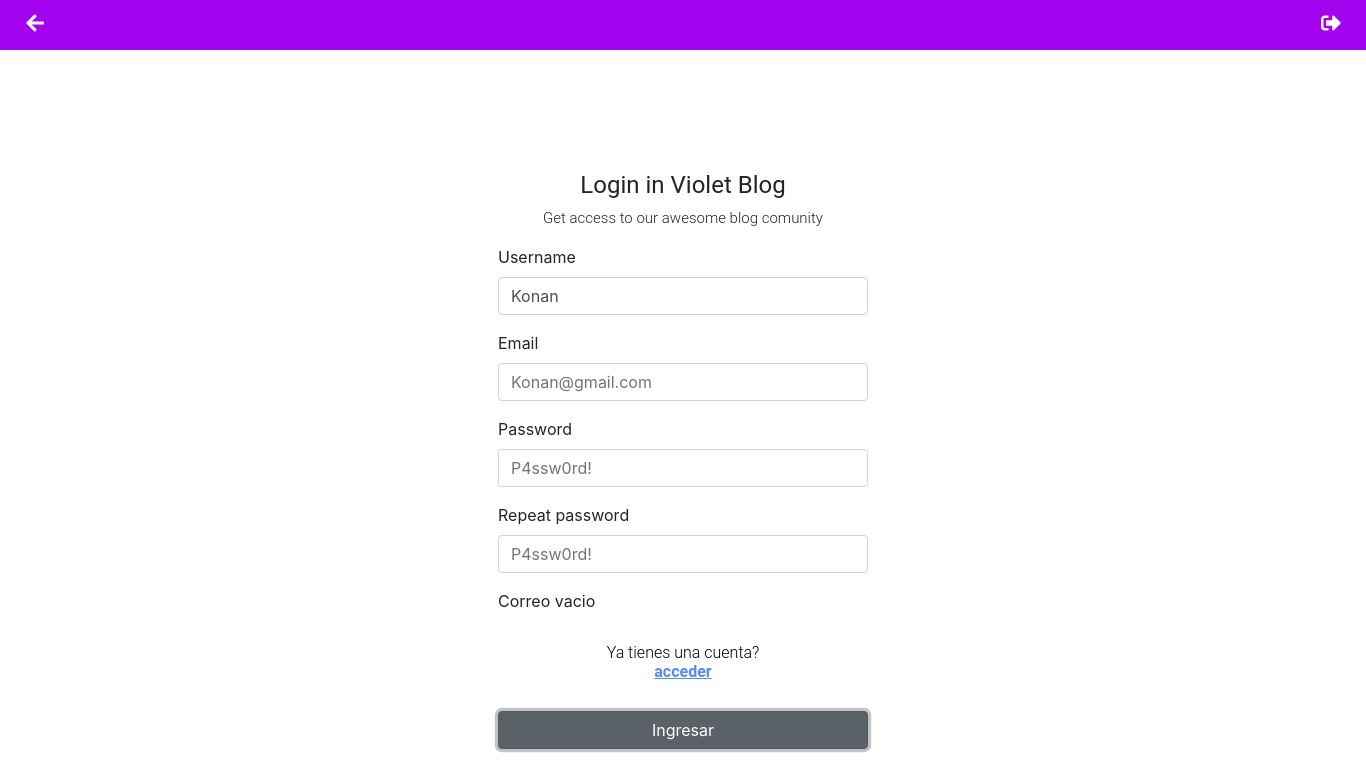
Register › Without password
The width and height of the screenshot is (1366, 768).
Type "konan@naruto.io" into the field with id "email".
click(683, 382); type("konan@naruto.io")  # box x1=498 y1=363 x2=868 y2=401
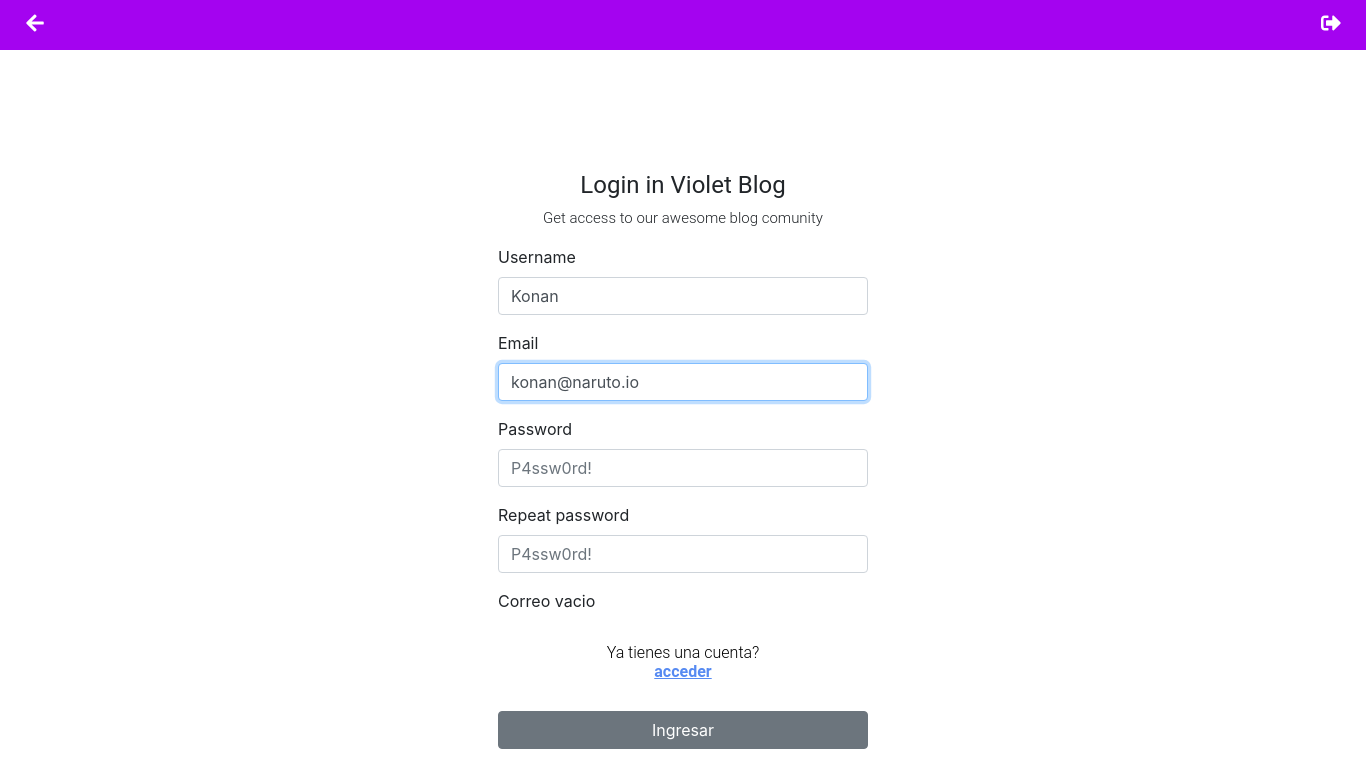
Click the button "Ingresar".
click(683, 730)  # box x1=498 y1=711 x2=868 y2=749
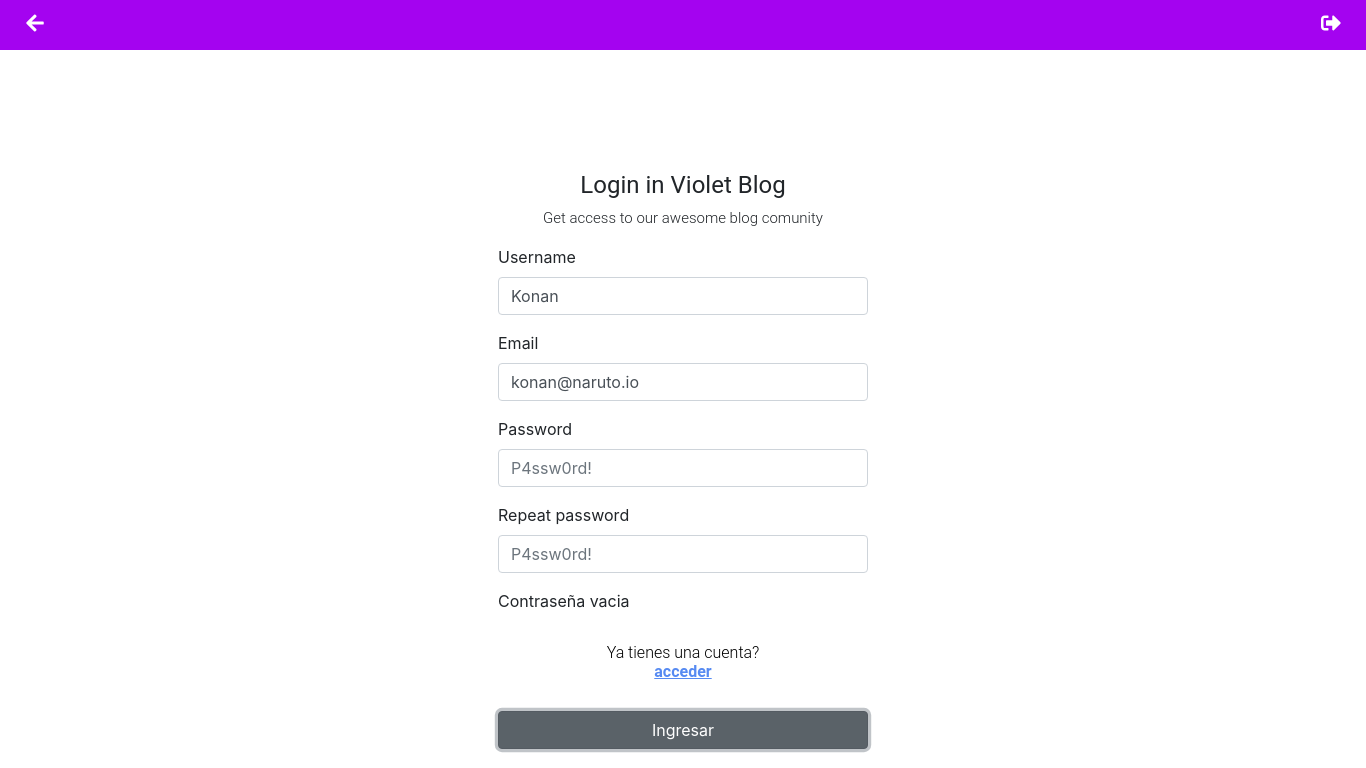
Expected: the text "Contraseña vacia" is shown, x1=498 y1=591 x2=630 y2=611
